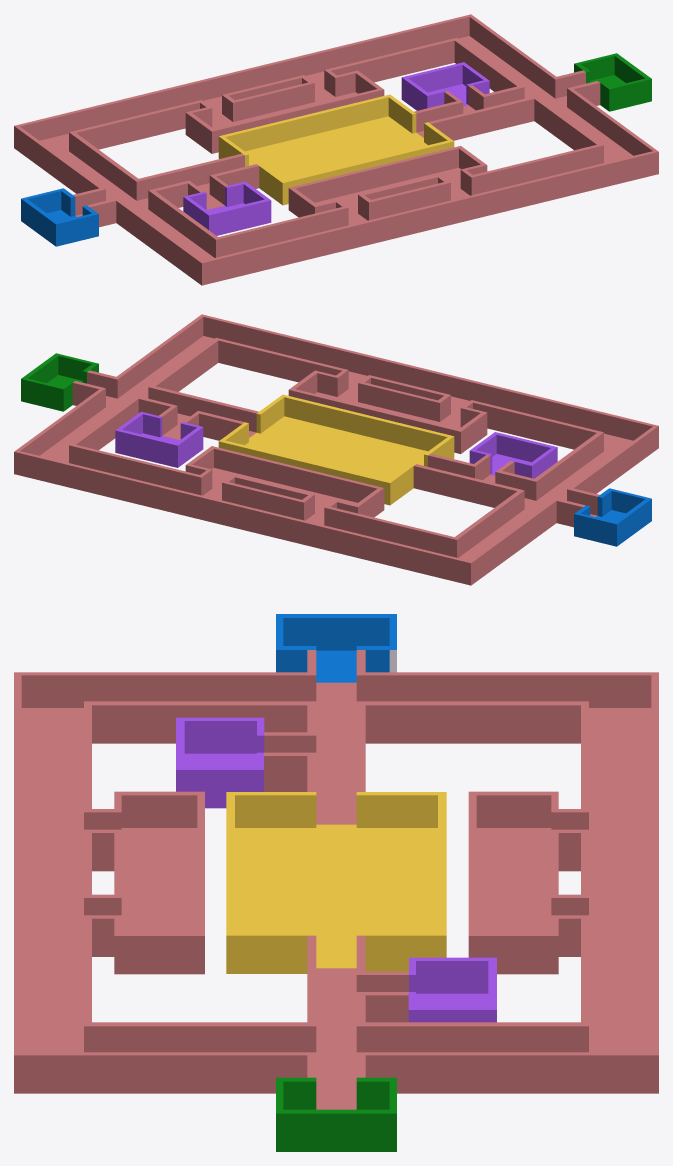
File: Map.fbx
3 renders of one model, top to bottom at view 1: azimuth 30°, elevation 25°; view 2: azimuth 150°, elevation 25°; view 3: azimuth 270°, elevation 25°, orthographic. The views are drawn at different scales.
Visible parts, largest first — view 1: Map_Walls, Map_Floor; view 2: Map_Walls, Map_Floor; view 3: Map_Walls, Map_Floor.
Part boxes in pixels (left/top/right/bottom): Map_Walls: left=14, top=14, right=658, bottom=282; Map_Floor: left=14, top=36, right=658, bottom=285; Map_Walls: left=14, top=314, right=658, bottom=582; Map_Floor: left=14, top=336, right=658, bottom=585; Map_Walls: left=14, top=614, right=658, bottom=1146; Map_Floor: left=14, top=650, right=658, bottom=1151.
Bounding box in the file's own units: 14902 × 533 × 8134.
